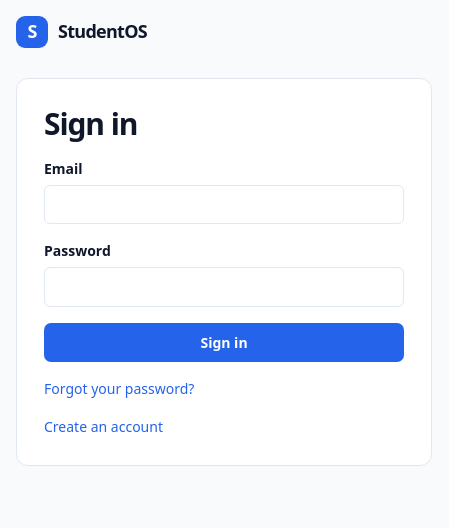
Test: validates the login fields
Click the button "Sign in": (224, 343) [44,323,404,362]
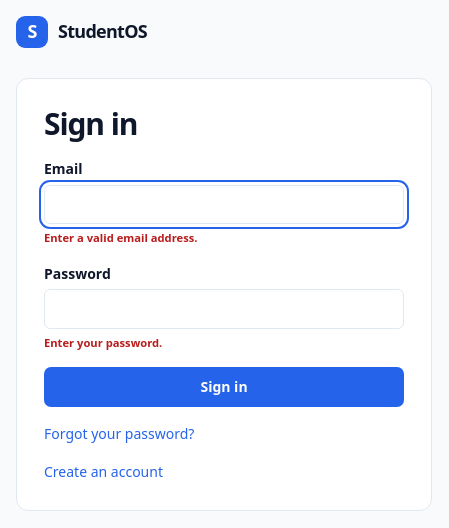
Check: the text "Enter a valid email address." is shown, box [44,230,198,245]
Check: the text "Enter your password." is shown, box [44,335,162,350]
